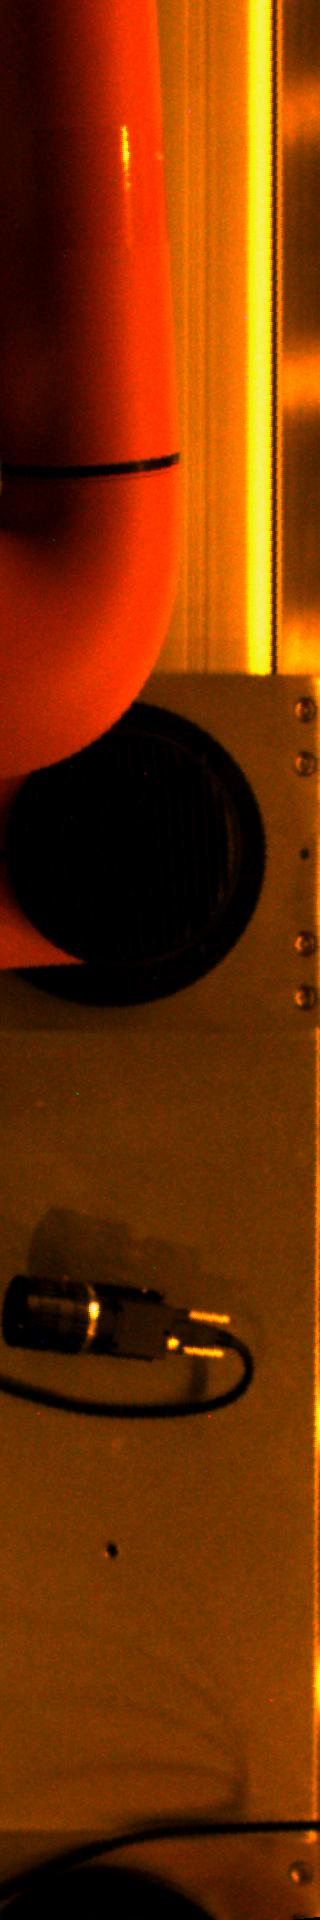keyPoint_2: (97, 1536, 128, 1565)
